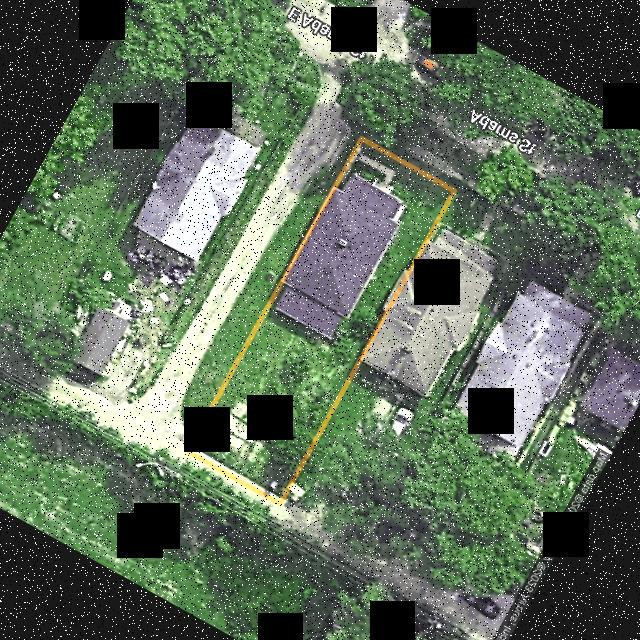Driveway: (357, 153, 395, 184)
Extra Lawn: (392, 152, 460, 188)
Extra Sidewalk: (401, 143, 463, 181)
House: (276, 173, 404, 337)
Other: (215, 401, 271, 460)
